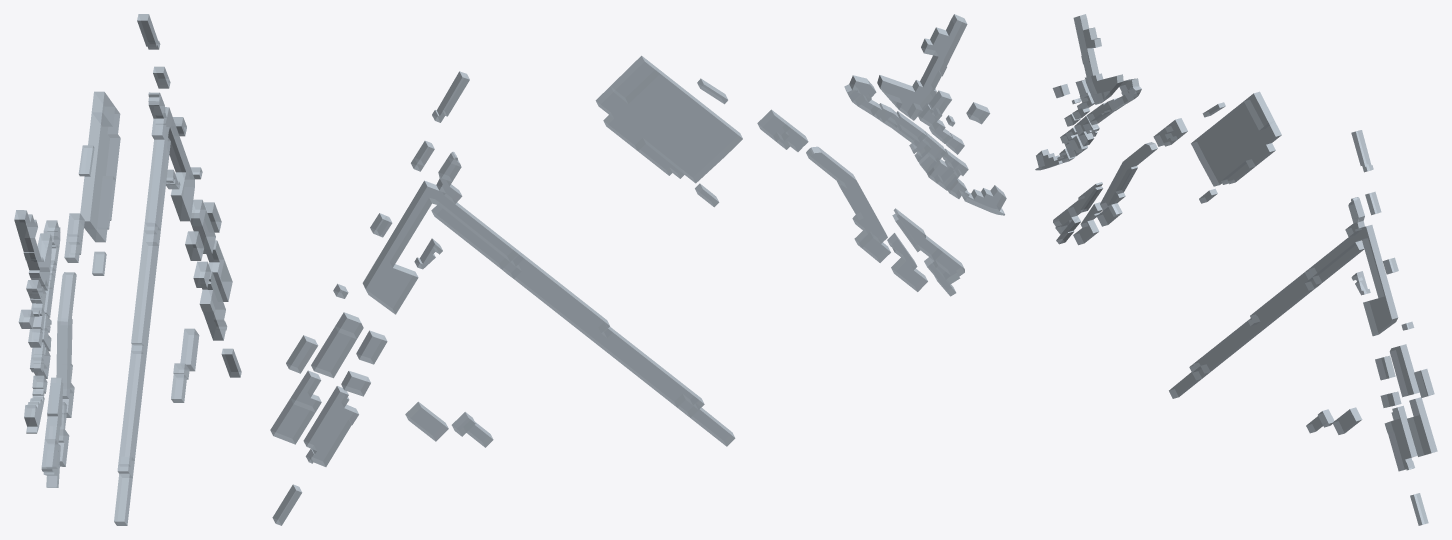
File: osm_buildings_only.glb
The picture shows the model from 3 angles, left to right: view 1: azimuth 30°, elevation 25°; view 2: azimuth 150°, elevation 25°; view 3: azimuth 270°, elevation 25°; orthographic projection. The views are drawn at different scales.
Bounding box in the file's own units: 475 × 426 × 452.
